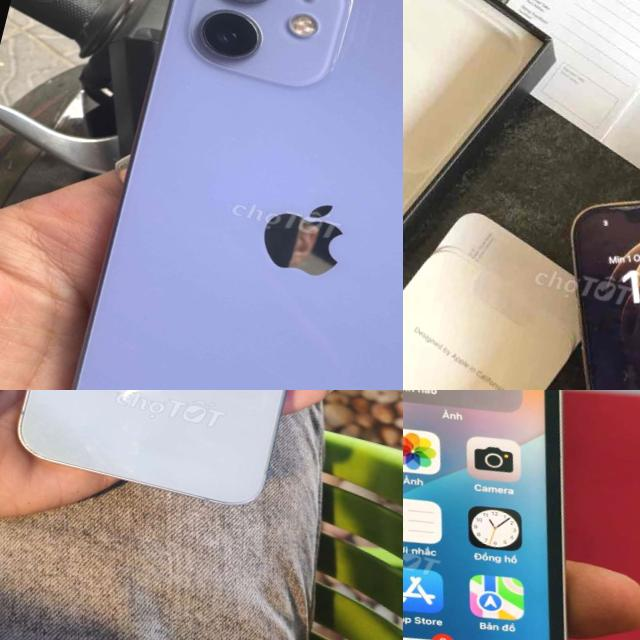gen_12_13: (38, 0, 403, 390), (403, 390, 640, 640), (478, 148, 640, 390)
gen_14: (0, 390, 370, 528)
